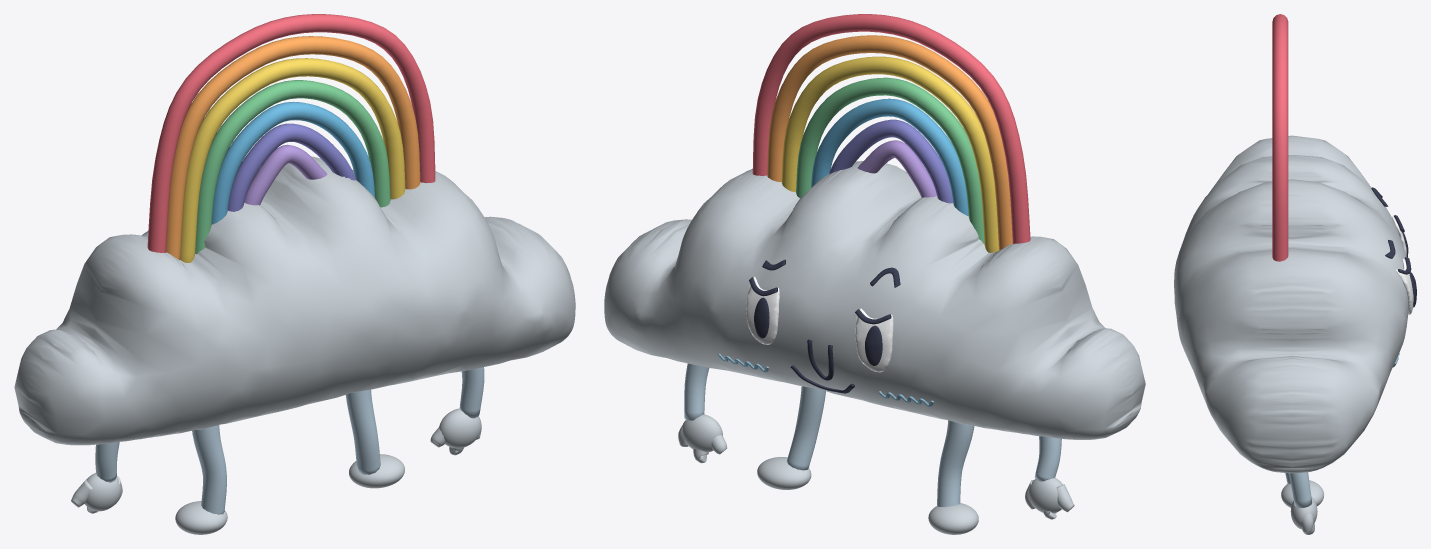
File: character.glb
3 views of the same model, side by side, from view 1: azimuth 30°, elevation 25°; view 2: azimuth 150°, elevation 25°; view 3: azimuth 270°, elevation 25° (orthographic). The views are drawn at different scales.
Parts seen in each view (by area): view 1: body, arch_red, arch_orange, arch_yellow, arch_green, arch_blue, arch_indigo, leg_screen_right, leg_screen_left, arch_violet, hand_screen_left, hand_screen_right (+4 smaller); view 2: body, arch_red, arch_orange, arch_yellow, arch_green, arch_blue, arch_indigo, leg_screen_right, leg_screen_left, arch_violet, hand_screen_left, hand_screen_right (+6 smaller); view 3: body, arch_red, arm_screen_left, hand_screen_left, foot_screen_left, eye_screen_left.
Part boxes in pixels (x1,y1,x2,y2): body: (14,156,575,445); arch_red: (147,14,435,252); arch_orange: (166,36,420,260); arch_yellow: (180,58,405,262); arch_green: (195,80,390,254); arch_blue: (211,101,375,224); arch_indigo: (227,123,355,211); leg_screen_right: (192,425,226,514); leg_screen_left: (345,389,380,474); arch_violet: (244,144,327,205); hand_screen_left: (430,408,481,455); hand_screen_right: (71,473,122,513); body: (604,161,1145,439); arch_red: (752,14,1030,243); arch_orange: (767,35,1012,250); arch_yellow: (781,56,998,252); arch_green: (796,77,984,244); arch_blue: (811,98,968,215); arch_indigo: (829,119,952,203); leg_screen_right: (937,420,974,506); leg_screen_left: (786,386,825,470); arch_violet: (857,140,936,197); hand_screen_left: (678,414,727,463); hand_screen_right: (1025,477,1074,519); body: (1174,135,1408,473); arch_red: (1272,14,1288,261); arm_screen_left: (1289,472,1312,507); hand_screen_left: (1290,496,1317,534); foot_screen_left: (1281,480,1323,507); eye_screen_left: (1396,258,1413,314).
Bounding box in the file's own units: 0.1097 × 0.1 × 0.0504.
